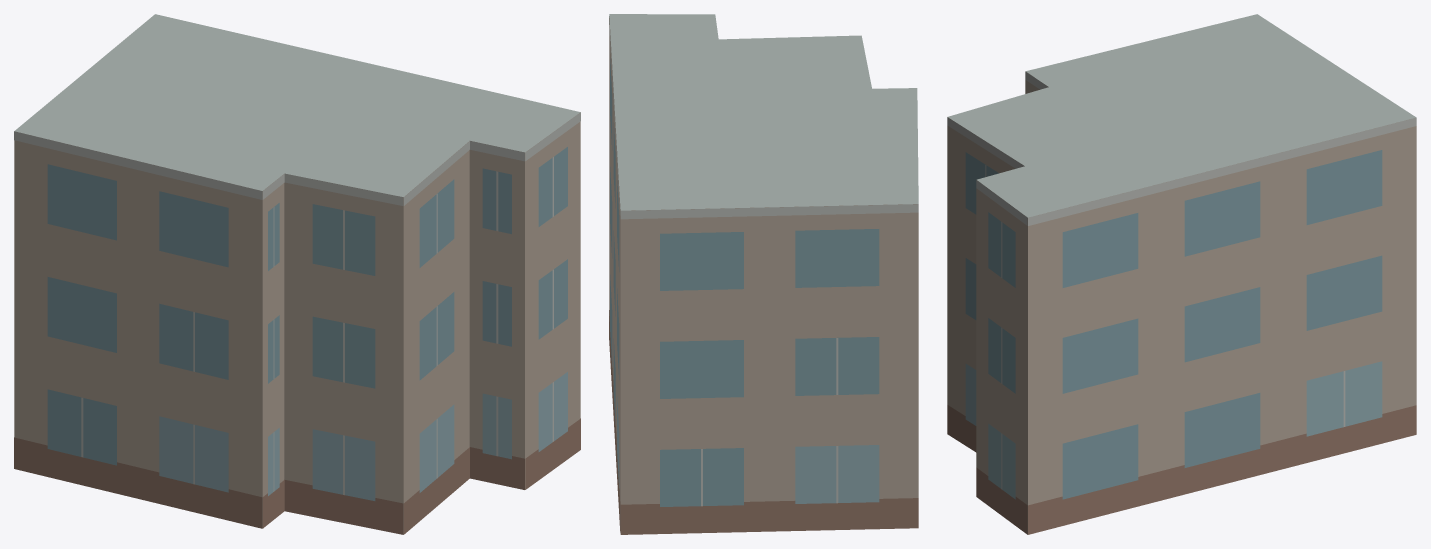
File: survey-upis-32711072.glb
The picture shows the model from 3 angles, left to right: view 1: azimuth 30°, elevation 25°; view 2: azimuth 150°, elevation 25°; view 3: azimuth 270°, elevation 25°; orthographic projection. The views are drawn at different scales.
Parts seen in each view (by area): view 1: survey-upis-32711072.tmp; view 2: survey-upis-32711072.tmp; view 3: survey-upis-32711072.tmp.
Part boxes in pixels (x1,y1,x2,y2): survey-upis-32711072.tmp: (14,14,580,534); survey-upis-32711072.tmp: (609,14,918,534); survey-upis-32711072.tmp: (947,14,1416,534).
Bounding box in the file's own units: 12.61 × 9.15 × 12.28.
